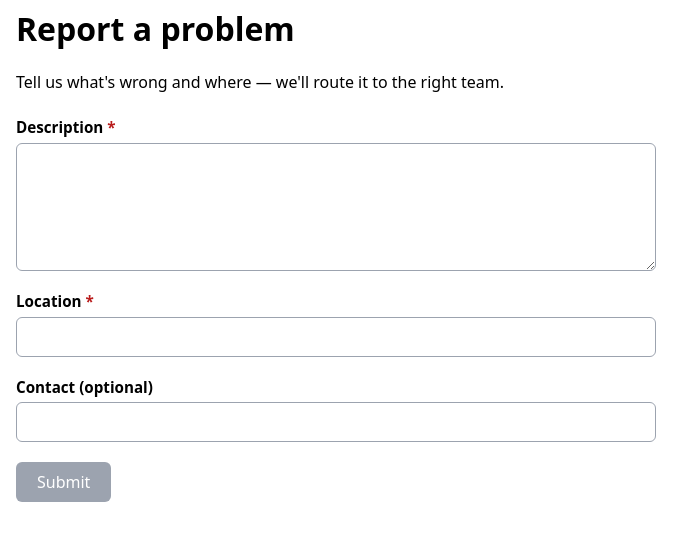
Test: SubmitPage › maps a 400 field error onto the matching form field
The image size is (673, 544).
Type "There is a broken water pipe flooding the street." into the text box labelled "Description *" at (336, 207), box x1=16 y1=143 x2=656 y2=271
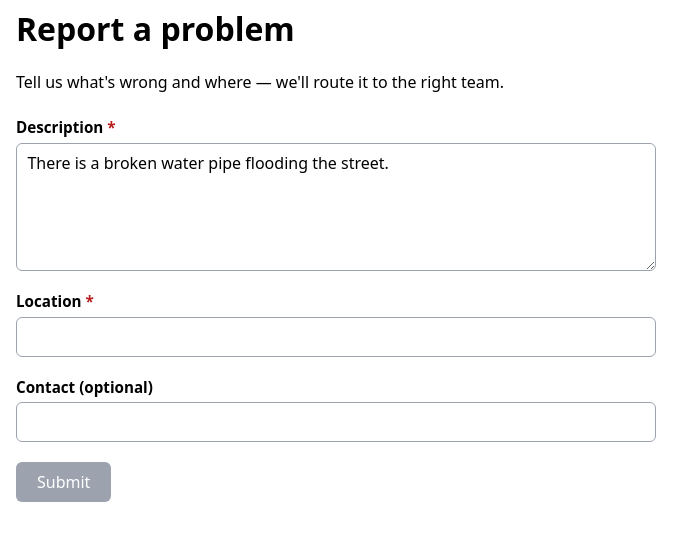
Type "Block 4, Main Street" into the field labelled "Location *" at (336, 337), box x1=16 y1=317 x2=656 y2=357
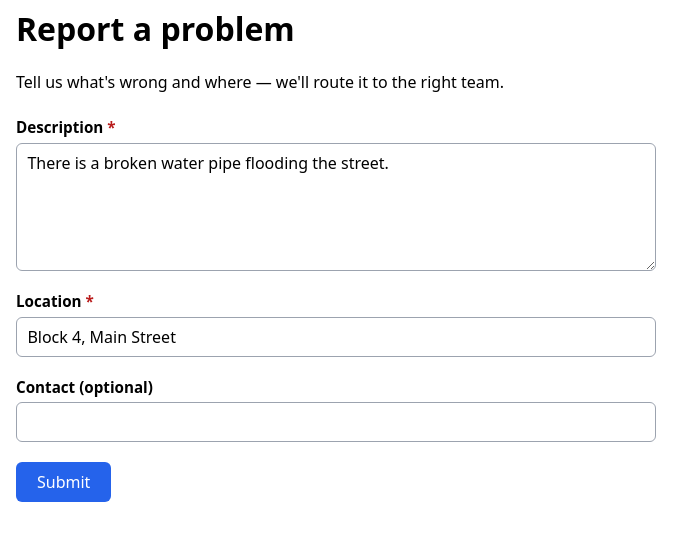
Click the button "Submit" at (64, 482), box x1=16 y1=462 x2=111 y2=502
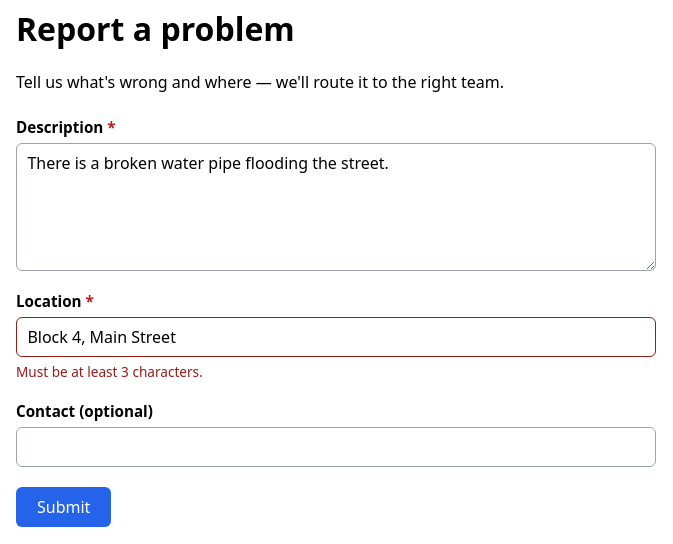
Check: the text "Must be at least 3 characters." is shown, box x1=16 y1=362 x2=203 y2=381
